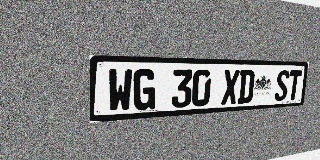0: (191, 69, 212, 107)
3: (171, 69, 193, 108)
D: (237, 70, 255, 104)
G: (133, 69, 156, 111)
S: (274, 70, 290, 101)
T: (287, 70, 302, 100)
W: (108, 69, 133, 112)
X: (221, 70, 240, 105)
